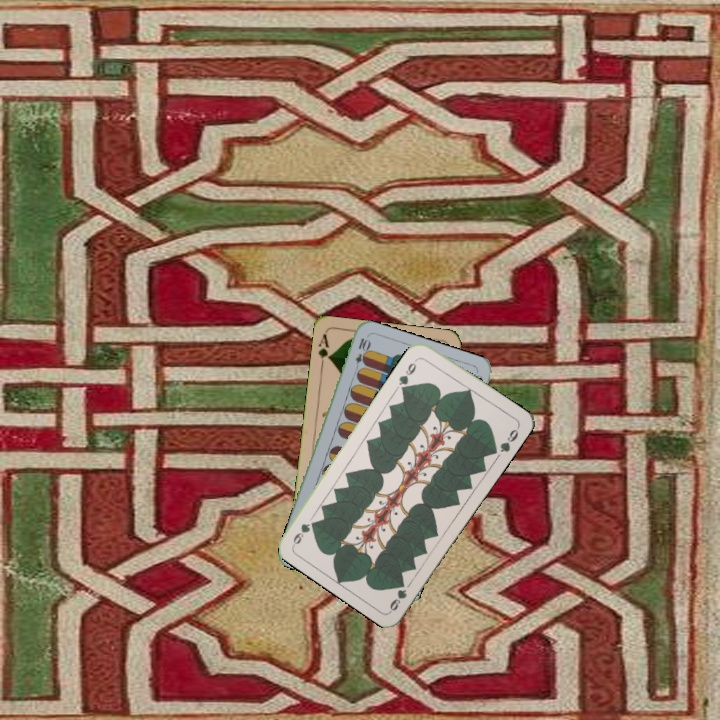E10: (351, 334, 371, 374)
G9: (394, 354, 421, 392), (386, 577, 410, 614)
GA: (314, 330, 333, 371)
